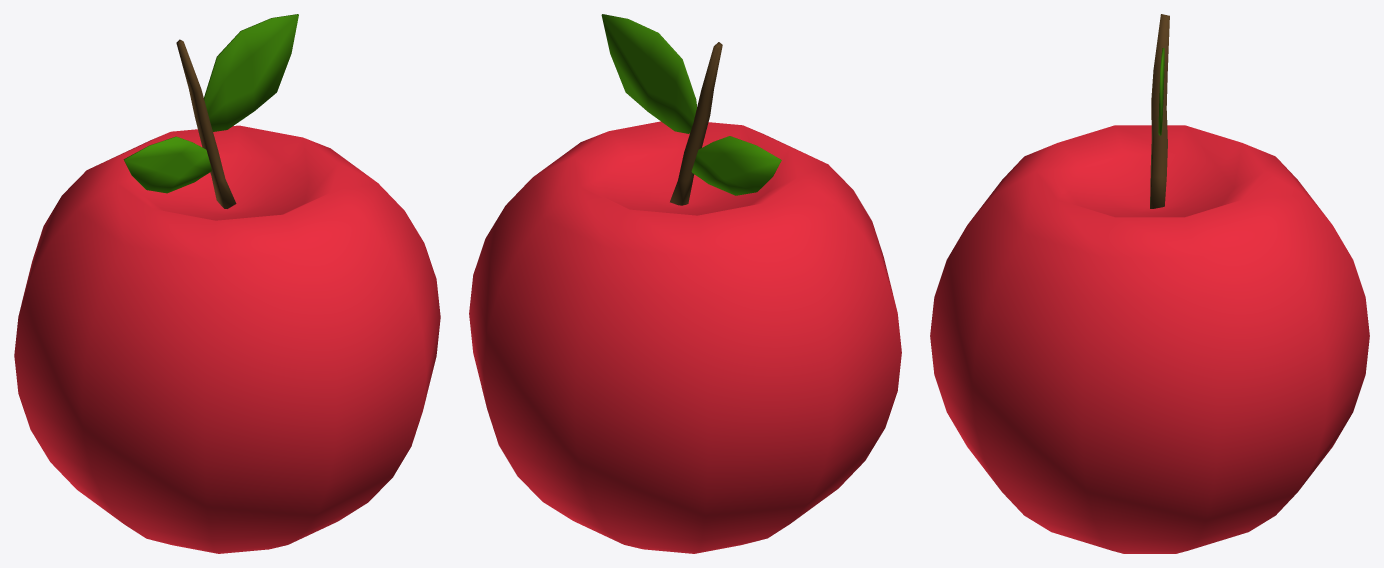
The model's file is Manzana.fbx.
3 renders of one model, left to right at view 1: azimuth 30°, elevation 25°; view 2: azimuth 150°, elevation 25°; view 3: azimuth 270°, elevation 25°, orthographic.
Parts seen in each view (by area): view 1: Sphere, Sphere.003, Sphere.002, Sphere.001; view 2: Sphere, Sphere.003, Sphere.002, Sphere.001; view 3: Sphere, Sphere.001.
Part boxes in pixels (x1,y1,x2,y2): Sphere: (14,125,440,553); Sphere.003: (204,14,298,131); Sphere.002: (123,136,211,193); Sphere.001: (176,39,236,208); Sphere: (469,121,901,553); Sphere.003: (601,14,696,133); Sphere.002: (691,136,781,195); Sphere.001: (670,42,722,205); Sphere: (930,125,1369,553); Sphere.001: (1150,14,1169,208).
Size of the model in its own units: 74.61 by 99.05 by 78.45.
